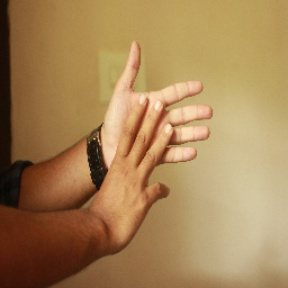M: (92, 37, 217, 223)
